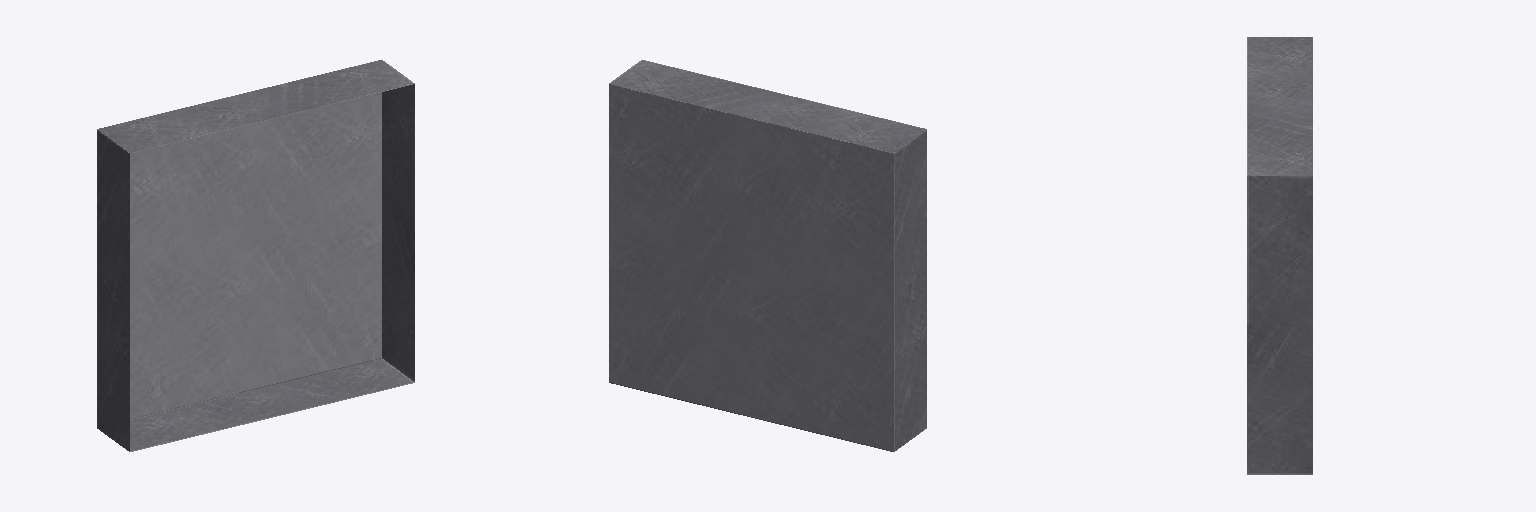
3 views of the same model, side by side, from view 1: azimuth 30°, elevation 25°; view 2: azimuth 150°, elevation 25°; view 3: azimuth 270°, elevation 25° (orthographic).
Visible parts, largest first — view 1: 123451; view 2: 123451; view 3: 123451.
Part boxes in pixels (bbox=[...]): 123451: bbox=[97, 60, 414, 451]; 123451: bbox=[609, 60, 926, 451]; 123451: bbox=[1247, 37, 1312, 474].
Size of the model in its own units: 20.04 by 20.04 by 4.06.
1 materials, 1 textured.